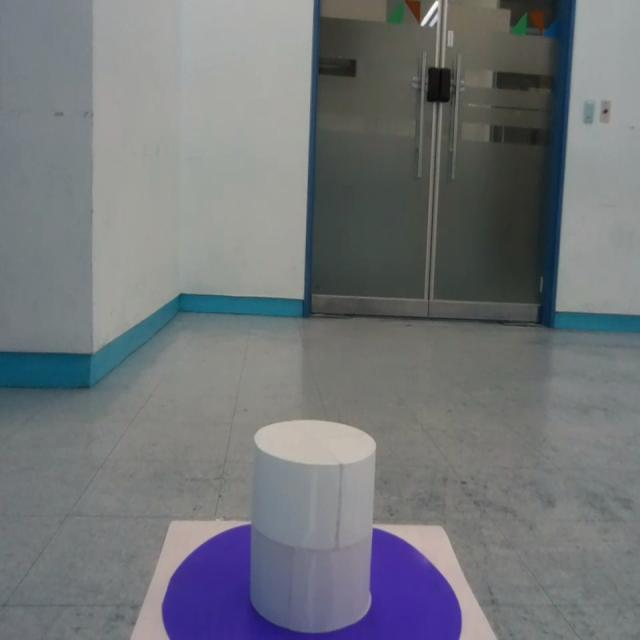cylinder: (249, 418, 377, 632)
